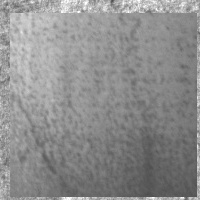crazing: (37, 31, 181, 100), (1, 132, 92, 195)
pitted_surface: (10, 13, 197, 197)
